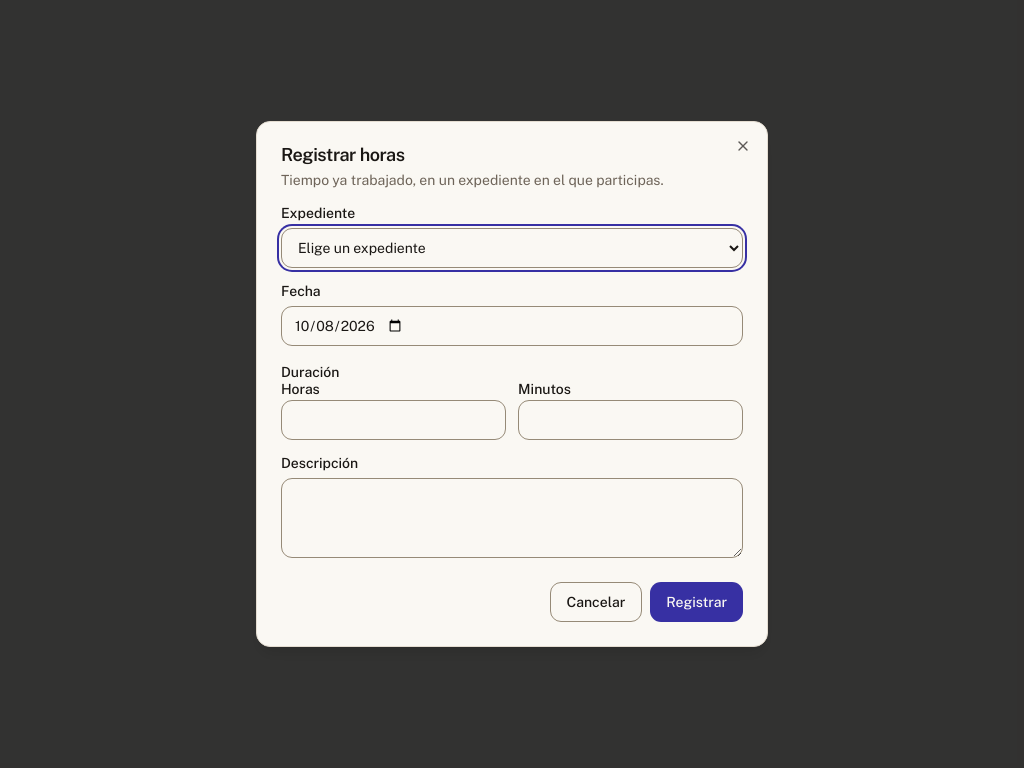
Test: LogTimeDialog › recording (US2) › refuses before sending: no matter, a future date, zero, more than a day, no description
Type "2026-10-09" into the date field labelled "Fecha" at (512, 326), box [281, 306, 743, 346]
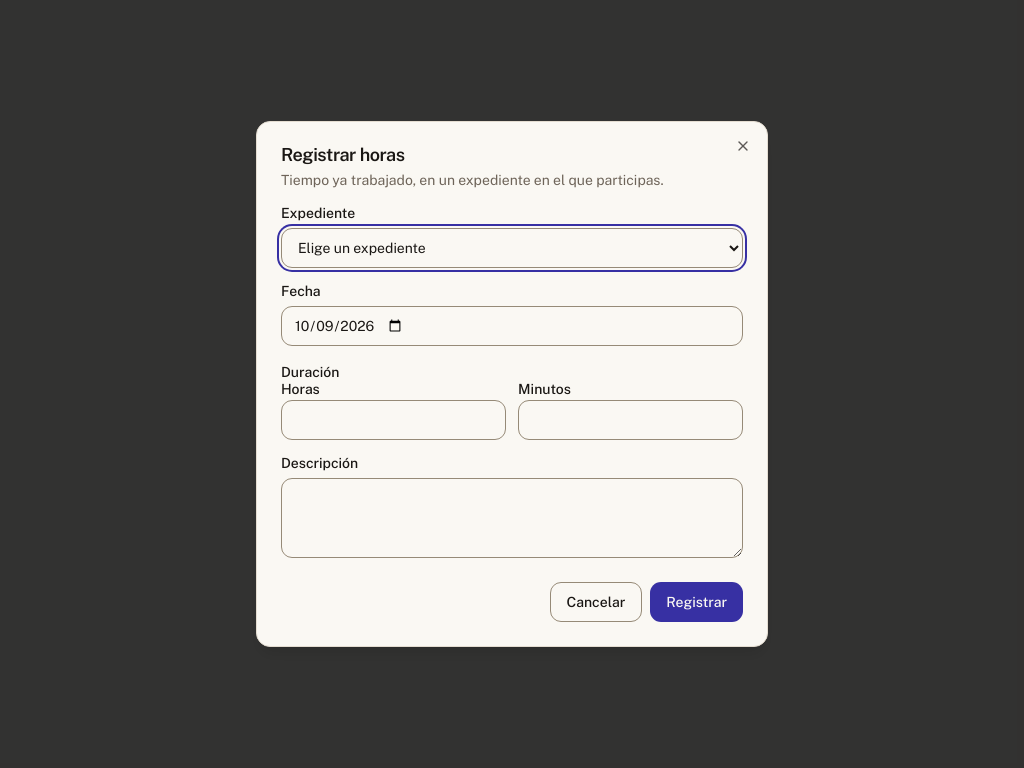
Type "25" into the field labelled "Horas" at (394, 420), box [281, 400, 506, 440]
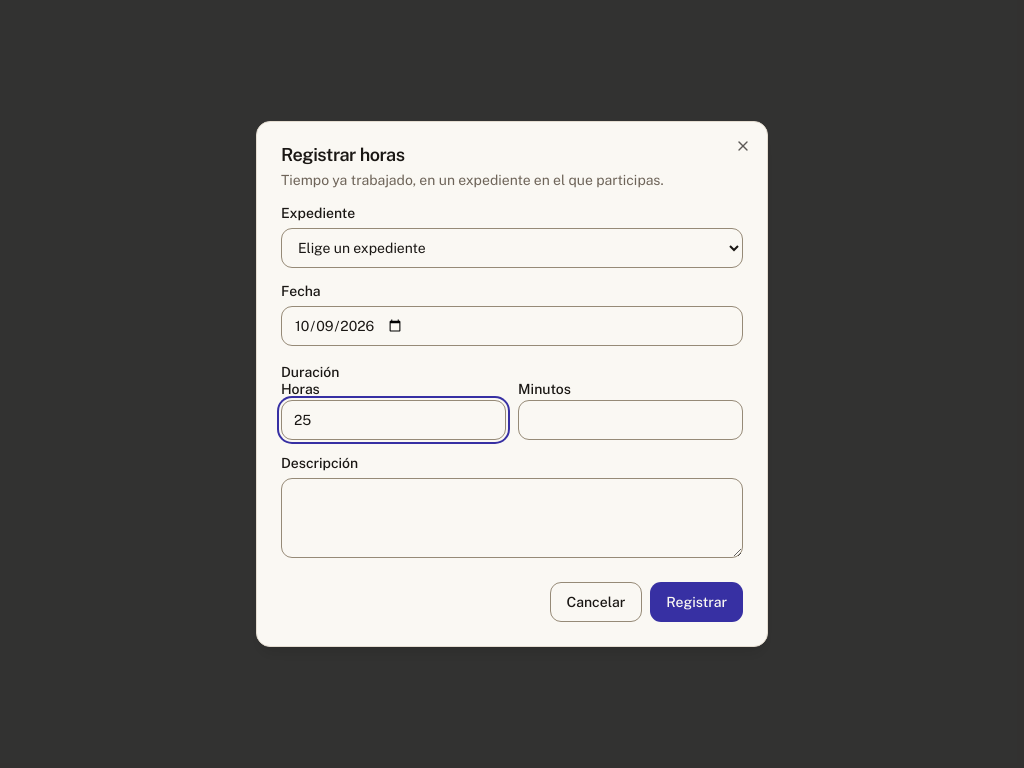
Click the button "Registrar" at (697, 602), box [650, 582, 743, 622]
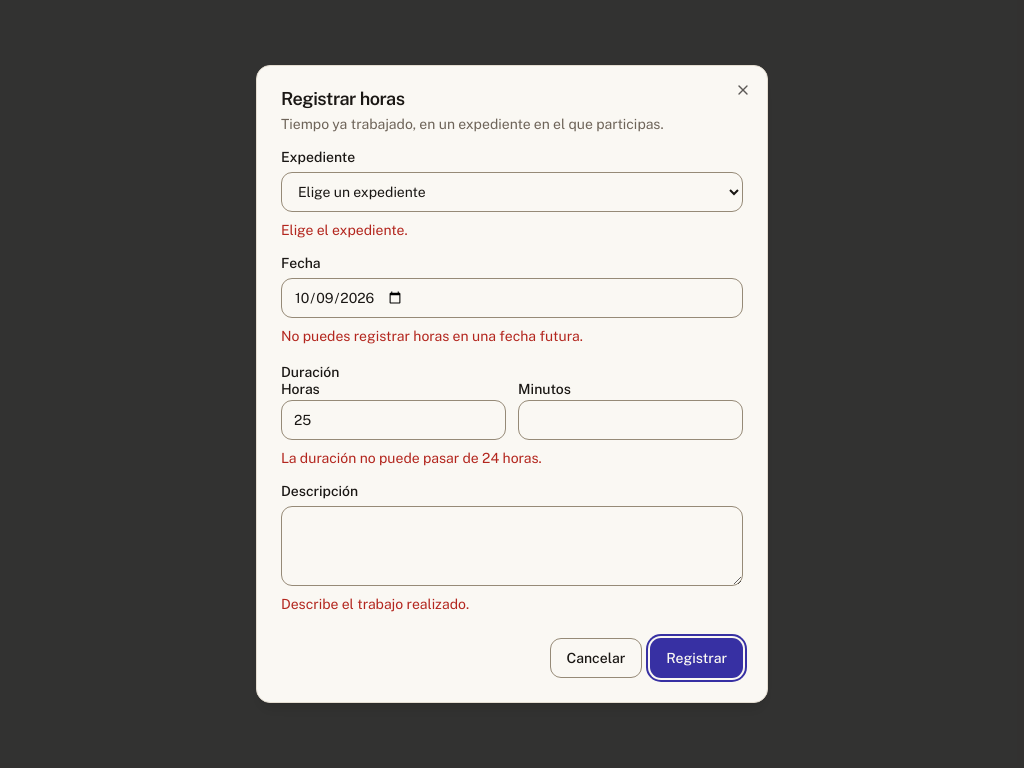
expect the text "Elige el expediente." is shown: met, box [281, 222, 408, 238]
expect the text "No puedes registrar horas en una fecha futura." is shown: met, box [281, 328, 583, 344]
expect the text "La duración no puede pasar de 24 horas." is shown: met, box [281, 450, 542, 466]
